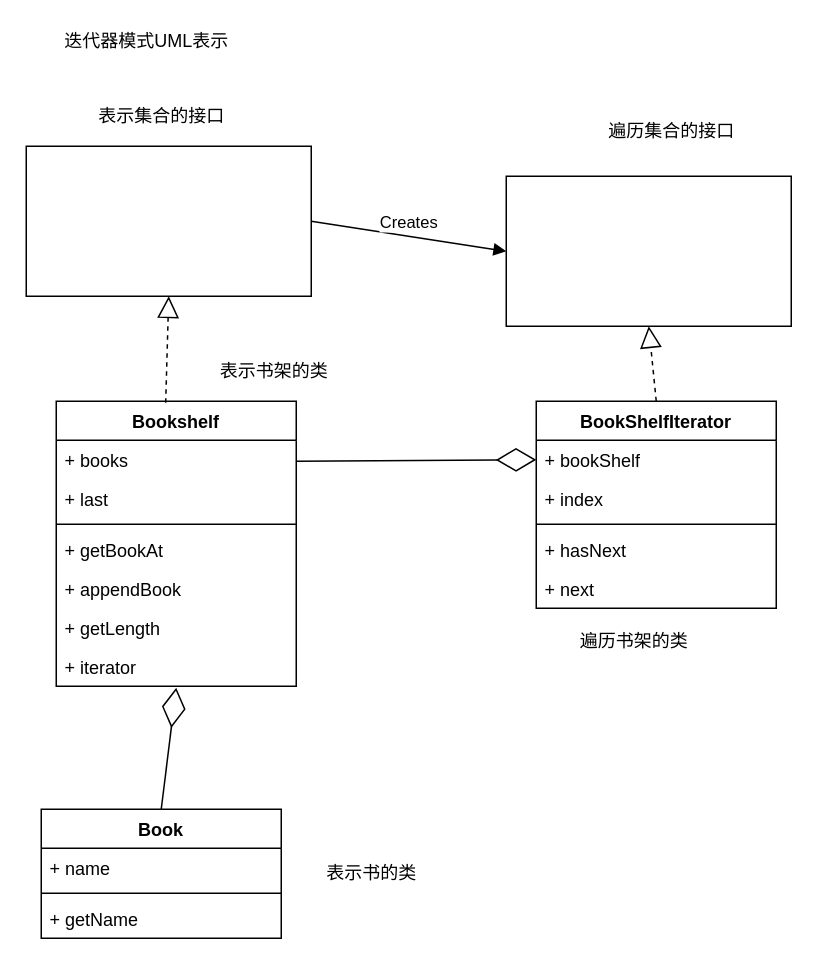
This 818x968 diagram has some shape labels left out. The centre of each missing label's shape, as x and y in pixels:
<<Interface>> Iterable + iterator: point 168,220
<<Interface>> Iterator + hasNext + next: point 648,250
